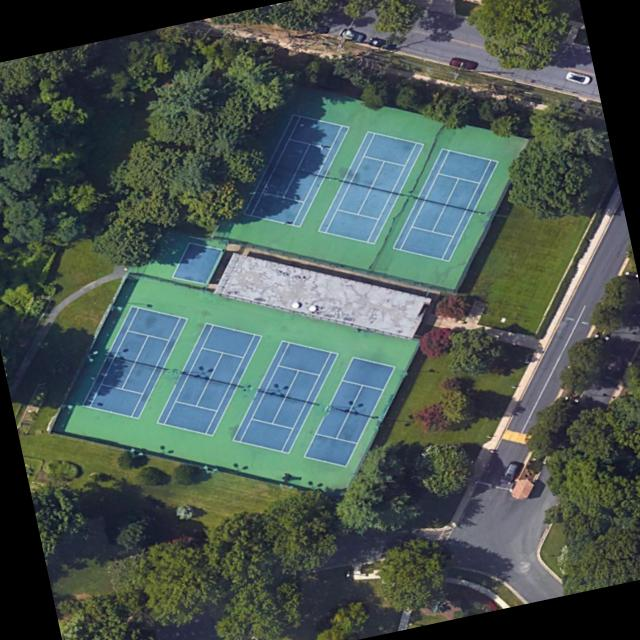small-vehicle: (497, 459, 520, 485), (365, 35, 396, 51), (336, 25, 365, 42), (562, 69, 591, 85), (447, 55, 475, 69)
